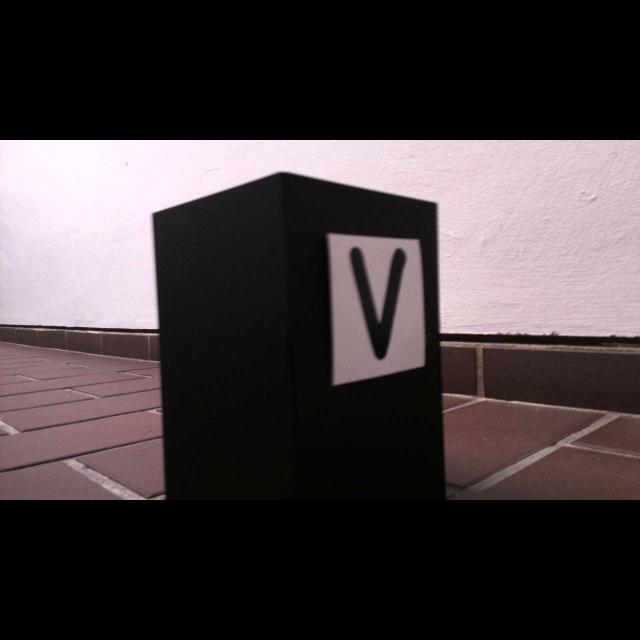V: (349, 247, 407, 359)
